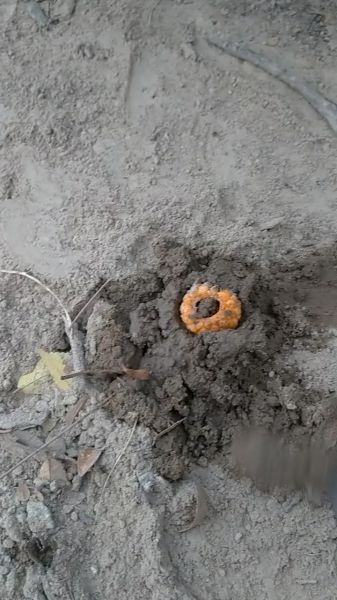eggs: (175, 275, 245, 338)
